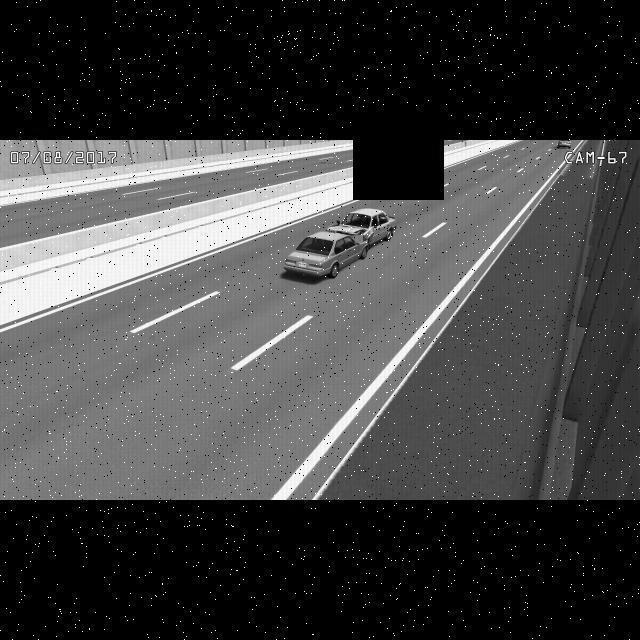accident: (281, 207, 399, 282)
vehicle: (555, 140, 575, 151)
